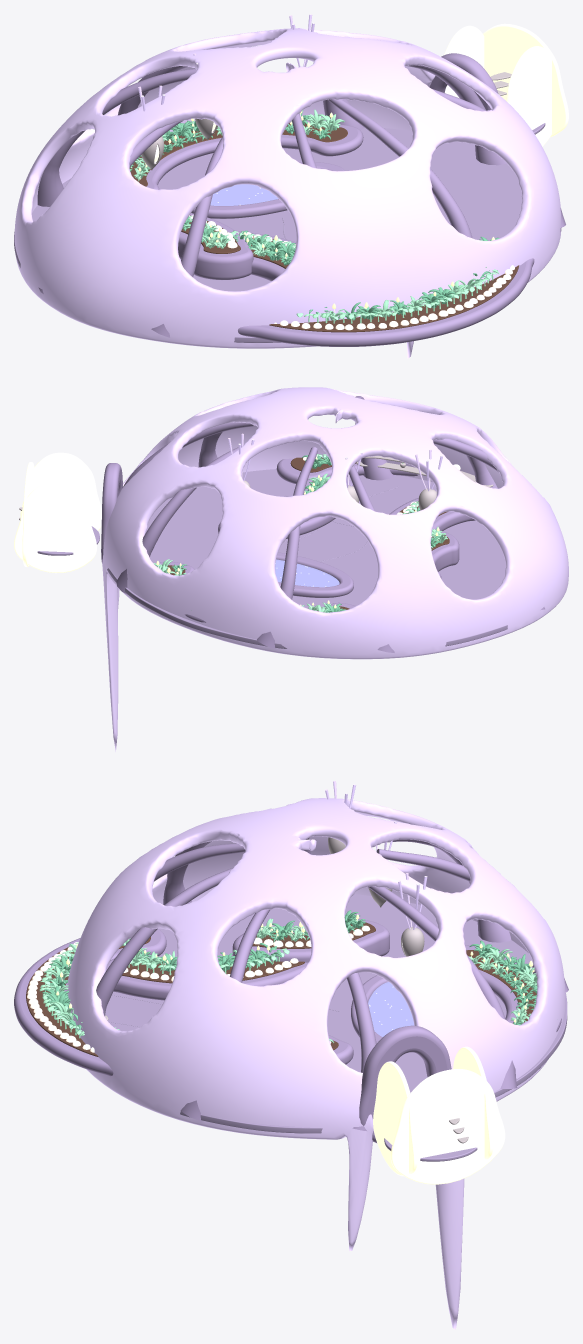
File: nursery.glb
The picture shows the model from 3 angles, top to bottom: view 1: azimuth 30°, elevation 25°; view 2: azimuth 150°, elevation 25°; view 3: azimuth 270°, elevation 25°; orthographic projection. The views are drawn at different scales.
Parts seen in each view (by area): view 1: Nursery_Shell, Floor_Main, Bed_Behind, WorkshopCorridor_Wall_0, WorkshopCorridor_Wall_1, Bed_Back_Center, Bed_Behind_Soil, Shell_ArchRib_3, Bed_Left_Upper, Shell_ArchRib_7, Shell_ArchRib_5, SeedPool_Rim (+10 smaller); view 2: Nursery_Shell, Floor_Main, WorkshopCorridor_Wall_2, WorkshopCorridor_Wall_1, Shell_ArchRib_2, Shell_ArchRib_1, SeedPool_Rim, Door_ToWorkshop_Frame, SeedPool_Water, Bed_Behind, Bed_Left_Upper, WorkshopCorridor_Wall_0 (+7 smaller); view 3: Nursery_Shell, Floor_Main, WorkshopCorridor_Wall_0, Door_ToWorkshop_Frame, Bed_Behind, WorkshopCorridor_Wall_1, Shell_ArchRib_7, Shell_ArchRib_1, SeedPool_Water, Bed_Left_Front, Bed_Left_Upper, Shell_ArchRib_0 (+9 smaller).
Boxes of the visible parts, x1,y1,x2,y2 form: Nursery_Shell: (14,28,561,358); Floor_Main: (14,127,561,342); Bed_Behind: (238,258,534,346); WorkshopCorridor_Wall_0: (483,23,568,137); WorkshopCorridor_Wall_1: (506,46,551,146); Bed_Back_Center: (146,120,363,189); Bed_Behind_Soil: (269,265,519,332); Shell_ArchRib_3: (37,68,196,206); Bed_Left_Upper: (178,213,253,279); Shell_ArchRib_7: (327,99,472,238); Shell_ArchRib_5: (151,136,223,337); SeedPool_Rim: (191,162,344,218); Nursery_Shell: (102,387,568,751); Floor_Main: (107,469,507,648); WorkshopCorridor_Wall_2: (14,482,96,573); WorkshopCorridor_Wall_1: (20,452,101,530); Shell_ArchRib_2: (257,447,317,648); Shell_ArchRib_1: (116,446,241,594); SeedPool_Rim: (276,552,353,597); Door_ToWorkshop_Frame: (101,463,122,563); SeedPool_Water: (275,559,339,587); Bed_Behind: (276,458,417,483); Bed_Left_Upper: (431,529,459,578); WorkshopCorridor_Wall_0: (22,462,34,566); Nursery_Shell: (66,798,565,1329); Floor_Main: (105,894,567,1133); WorkshopCorridor_Wall_0: (390,1069,505,1184); Door_ToWorkshop_Frame: (359,1025,451,1142); Bed_Behind: (14,929,166,1076); WorkshopCorridor_Wall_1: (373,1061,417,1176); Shell_ArchRib_7: (96,868,232,1016); Shell_ArchRib_1: (368,886,517,1088); SeedPool_Water: (368,982,414,1037); Bed_Left_Front: (105,956,308,1000); Bed_Left_Upper: (232,919,389,962); Shell_ArchRib_0: (346,973,376,1130).
Bounding box in the file's own units: 41.3 × 27.33 × 34.61.
